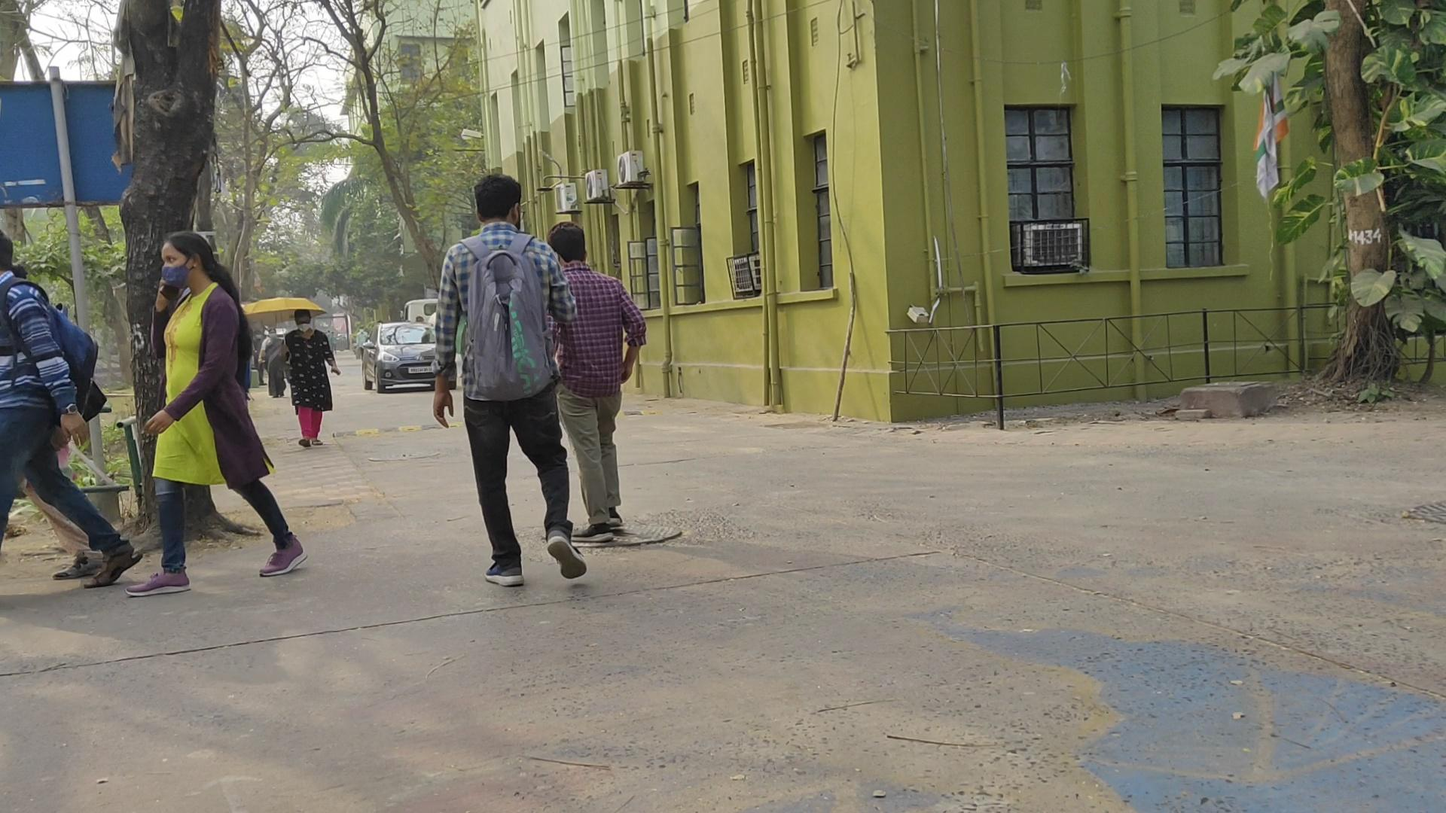car: (362, 321, 457, 394)
